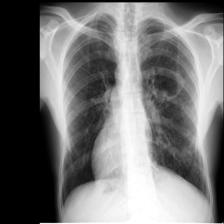tuberculosis: (59, 6, 213, 205)
